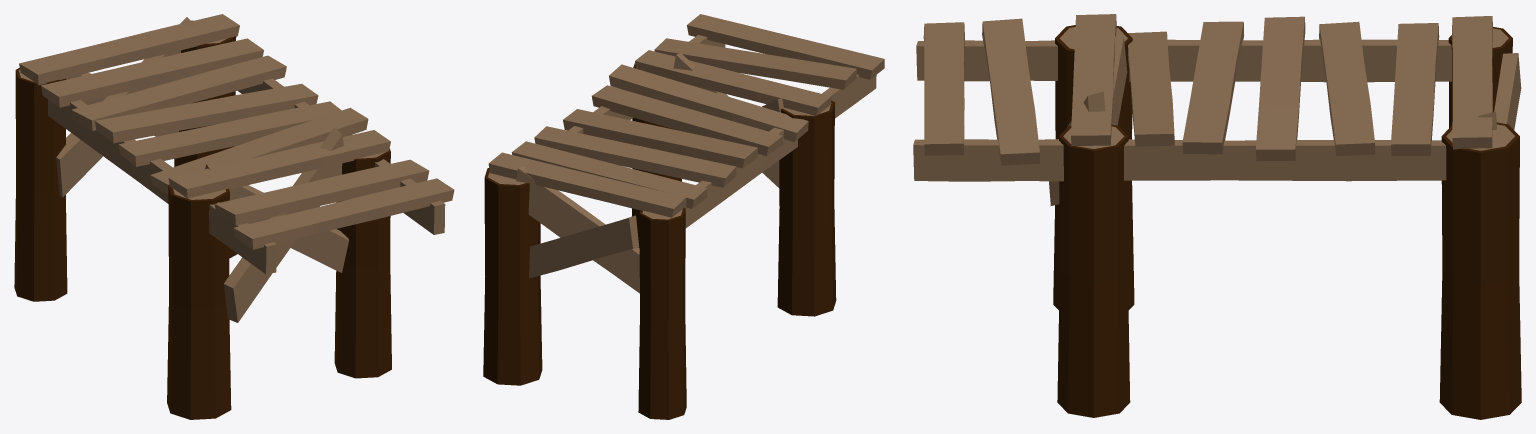
The model's file is Dock.fbx.
The picture shows the model from 3 angles, left to right: view 1: azimuth 30°, elevation 25°; view 2: azimuth 150°, elevation 25°; view 3: azimuth 270°, elevation 25°; orthographic projection. The views are drawn at different scales.
Parts seen in each view (by area): view 1: Dock, Cylinder.015, Cylinder.014, Cube.018, Cube.025, Cube.024, Cube.022, Cube.019, Cube.017, Cube.023, Cube.021, Cube.020 (+7 smaller); view 2: Cylinder.016, Dock, Cylinder.015, Cube.020, Cube.023, Cube.025, Cube.022, Cube.021, Cube.018, Cube.019, Cube.017, Cube.016 (+6 smaller); view 3: Cylinder.016, Cylinder.014, Cube.011, Cube.017, Cube.022, Cube.021, Cube.023, Cube.024, Cube.018, Cube.025, Cube.008, Cube.019 (+8 smaller).
Boxes of the visible parts, x1=… form: Dock: x1=167, y1=184, x2=231, y2=419; Cylinder.015: x1=14, y1=68, x2=67, y2=301; Cylinder.014: x1=334, y1=148, x2=391, y2=378; Cube.018: x1=233, y1=178, x2=454, y2=249; Cube.025: x1=19, y1=14, x2=239, y2=85; Cube.024: x1=41, y1=38, x2=263, y2=107; Cube.022: x1=95, y1=83, x2=318, y2=143; Cube.019: x1=168, y1=130, x2=390, y2=198; Cube.017: x1=214, y1=159, x2=429, y2=225; Cube.023: x1=71, y1=55, x2=286, y2=131; Cube.021: x1=118, y1=101, x2=341, y2=166; Cube.020: x1=150, y1=107, x2=368, y2=194; Cylinder.016: x1=483, y1=168, x2=542, y2=385; Dock: x1=777, y1=100, x2=836, y2=316; Cylinder.015: x1=638, y1=208, x2=686, y2=419; Cube.020: x1=609, y1=64, x2=808, y2=141; Cube.023: x1=534, y1=126, x2=736, y2=187; Cube.025: x1=488, y1=152, x2=686, y2=217; Cube.022: x1=563, y1=109, x2=757, y2=168; Cube.021: x1=591, y1=85, x2=782, y2=155; Cube.018: x1=687, y1=14, x2=884, y2=79; Cube.019: x1=635, y1=50, x2=831, y2=115; Cube.017: x1=654, y1=38, x2=856, y2=89; Cube.016: x1=516, y1=166, x2=639, y2=293; Cylinder.016: x1=1439, y1=122, x2=1521, y2=419; Cylinder.014: x1=1057, y1=124, x2=1130, y2=417; Cube.011: x1=1124, y1=139, x2=1446, y2=181; Cube.017: x1=982, y1=18, x2=1039, y2=165; Cube.022: x1=1255, y1=16, x2=1305, y2=161; Cube.021: x1=1182, y1=21, x2=1244, y2=154; Cube.023: x1=1319, y1=21, x2=1375, y2=156; Cube.024: x1=1391, y1=23, x2=1439, y2=155; Cube.018: x1=923, y1=22, x2=964, y2=155; Cube.025: x1=1452, y1=16, x2=1492, y2=149; Cube.008: x1=1129, y1=39, x2=1451, y2=82; Cube.019: x1=1071, y1=14, x2=1116, y2=145.
Size of the model in its own units: 407 by 424 by 789.
